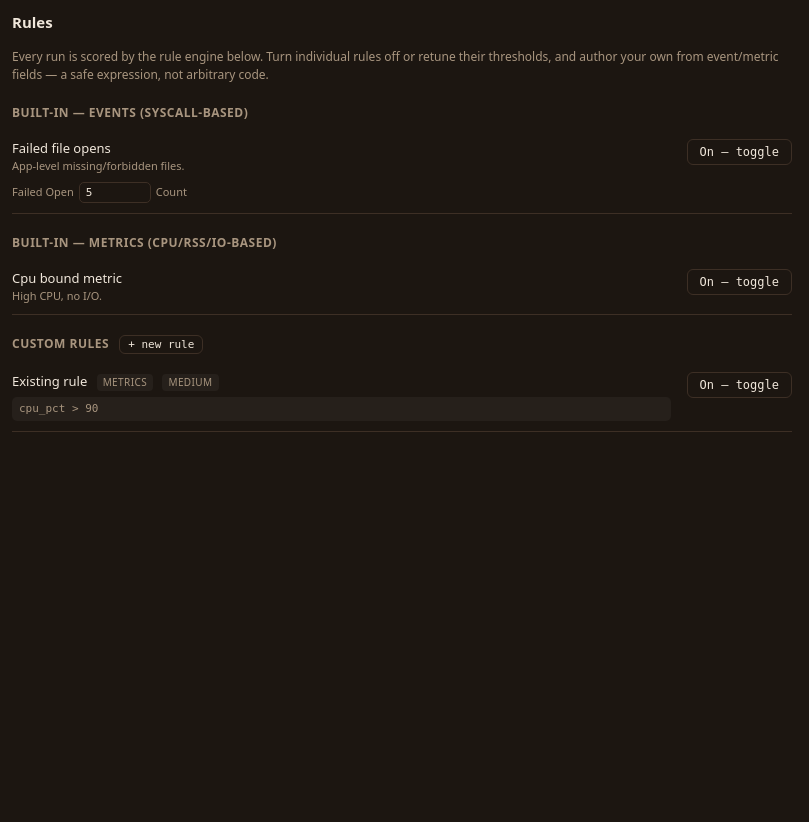
Test case: RulesSettings › new custom rule form blocks Create until the expression validates
Expected: the text "Existing rule" is shown, x1=12 y1=372 x2=87 y2=390
Click the button "+ new rule": (161, 345) x1=119 y1=335 x2=203 y2=354
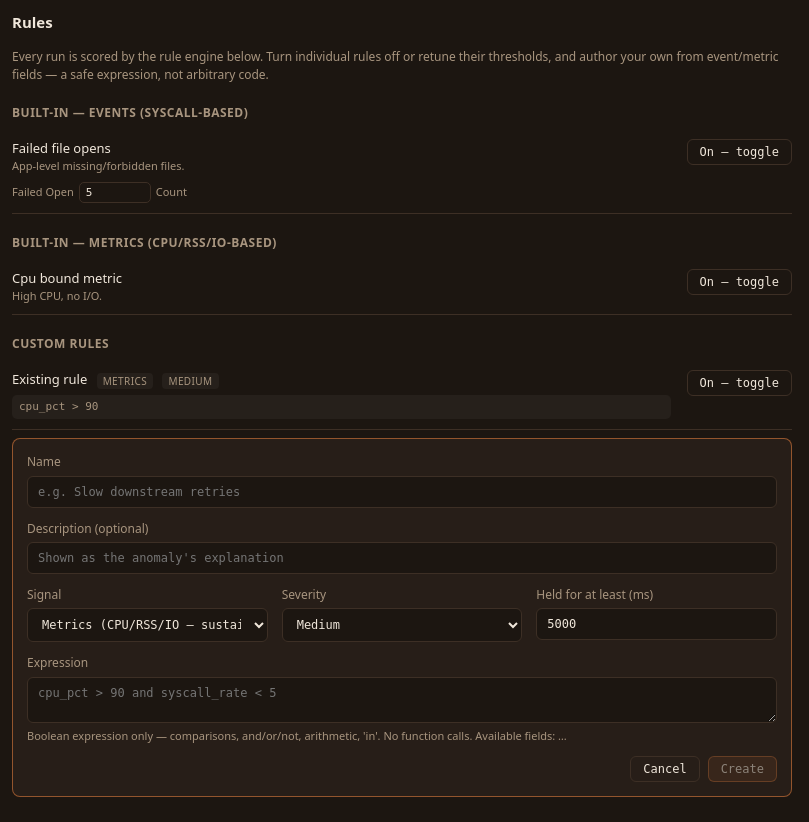
In the field with placeholder "e.g. Slow downstream retries": (402, 492) x1=27 y1=476 x2=777 y2=508, type "My rule"
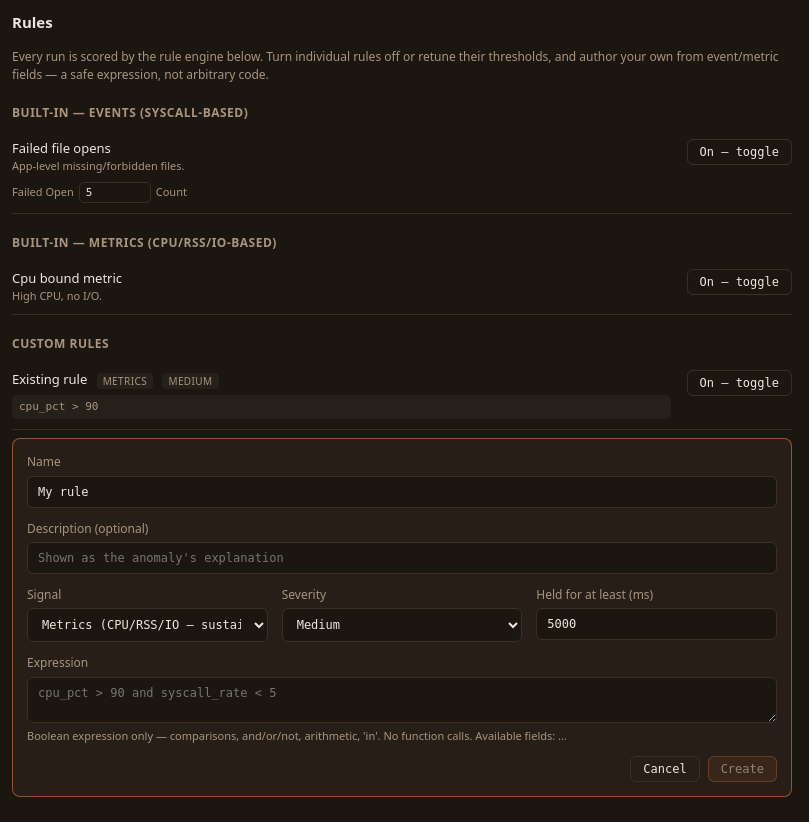
In the text box with placeholder "cpu_pct > 90 and syscall_rate < 5": (402, 700) x1=27 y1=677 x2=777 y2=723, type "().__class__"
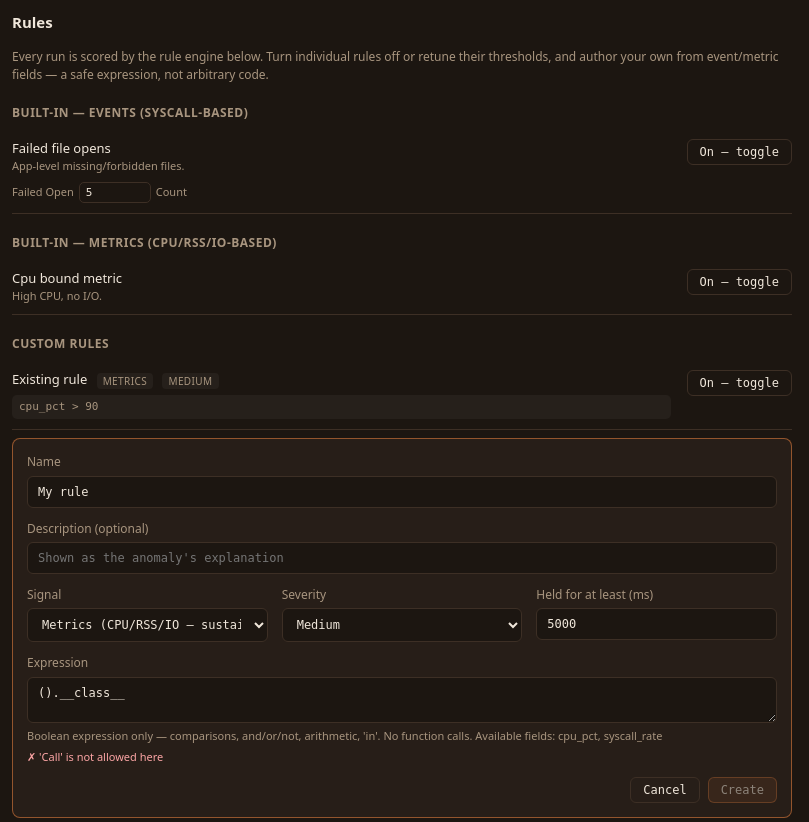
Now the button "Create" is disabled, box x1=708 y1=777 x2=777 y2=803
Now the text "✗ 'Call' is not allowed here" is shown, box x1=27 y1=749 x2=163 y2=764
Replace the text in the text box with placeholder "cpu_pct > 90 and syscall_rate < 5" with "cpu_pct > 90": (402, 700) x1=27 y1=677 x2=777 y2=723
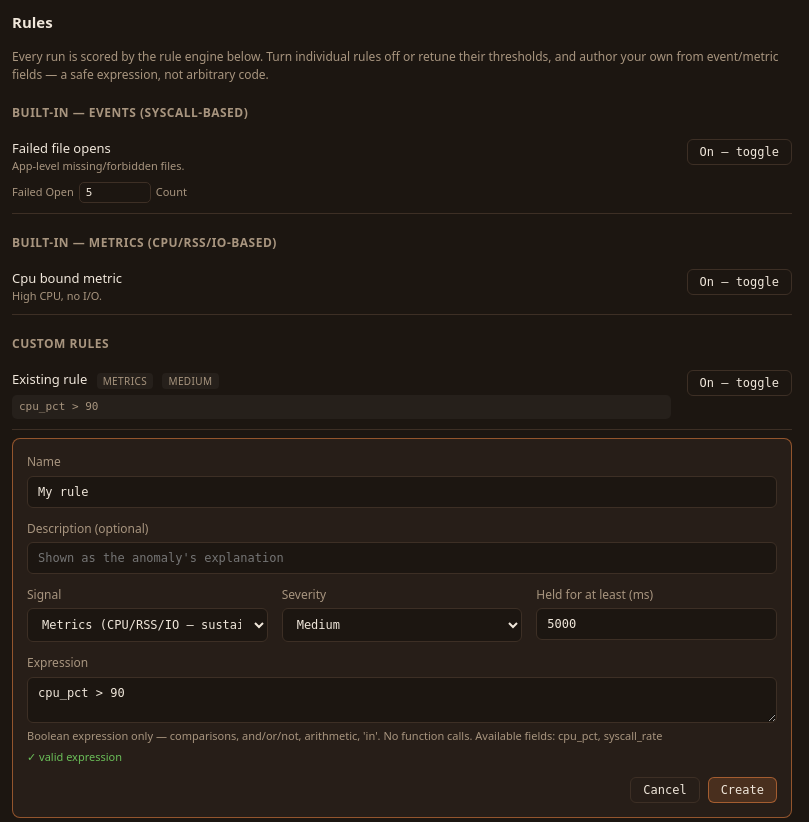
Now the text "✓ valid expression" is shown, box x1=27 y1=749 x2=122 y2=764
Now the button "Create" is enabled, box x1=708 y1=777 x2=777 y2=803
